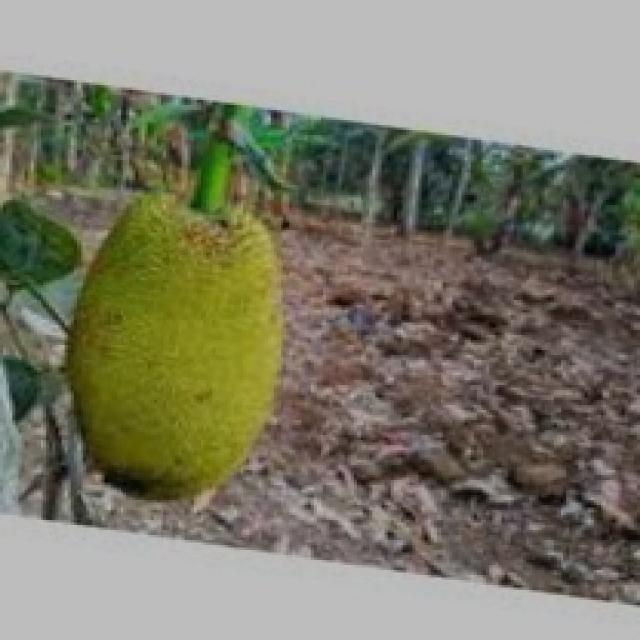Fruit: (22, 155, 338, 530)
